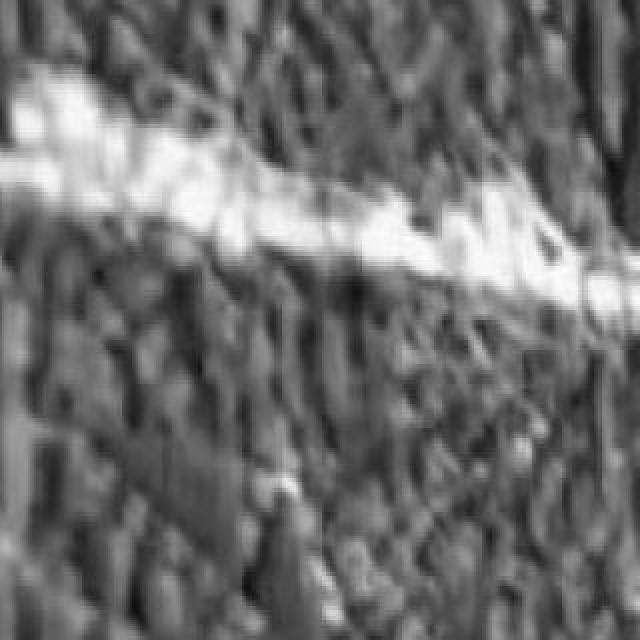Physical-damage: (3, 0, 640, 639)
